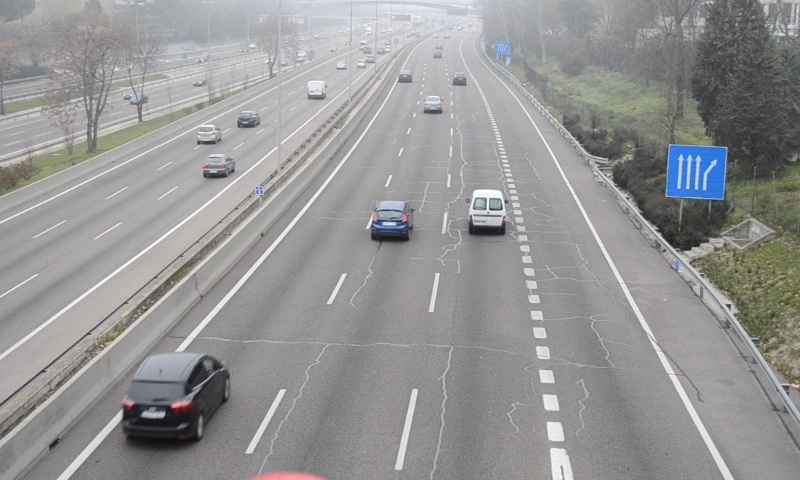car: (120, 353, 228, 440), (372, 202, 410, 239), (423, 96, 443, 113), (398, 68, 413, 84), (452, 72, 467, 86)
van: (469, 190, 506, 232)
